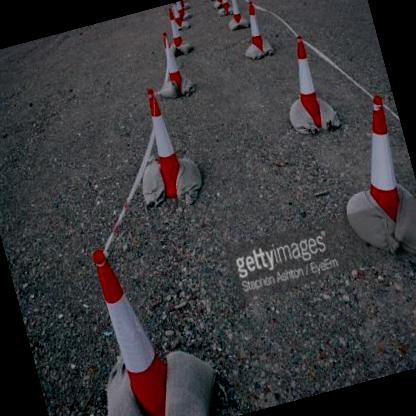cone: (88, 238, 193, 415), (340, 91, 415, 241), (278, 32, 338, 137), (136, 87, 192, 199), (147, 32, 193, 102), (233, 0, 276, 63)
